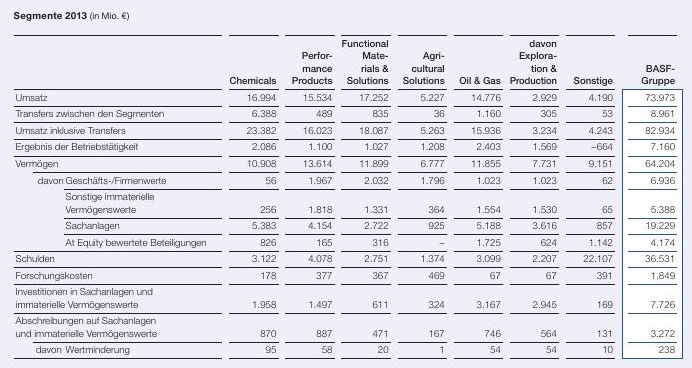table: (0, 0, 692, 368)
